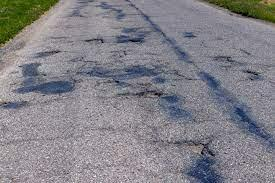pothole: (15, 79, 78, 99), (170, 139, 217, 160), (118, 86, 165, 101), (18, 62, 45, 80), (0, 98, 28, 112), (80, 36, 110, 46), (38, 47, 64, 57), (116, 36, 142, 43)
